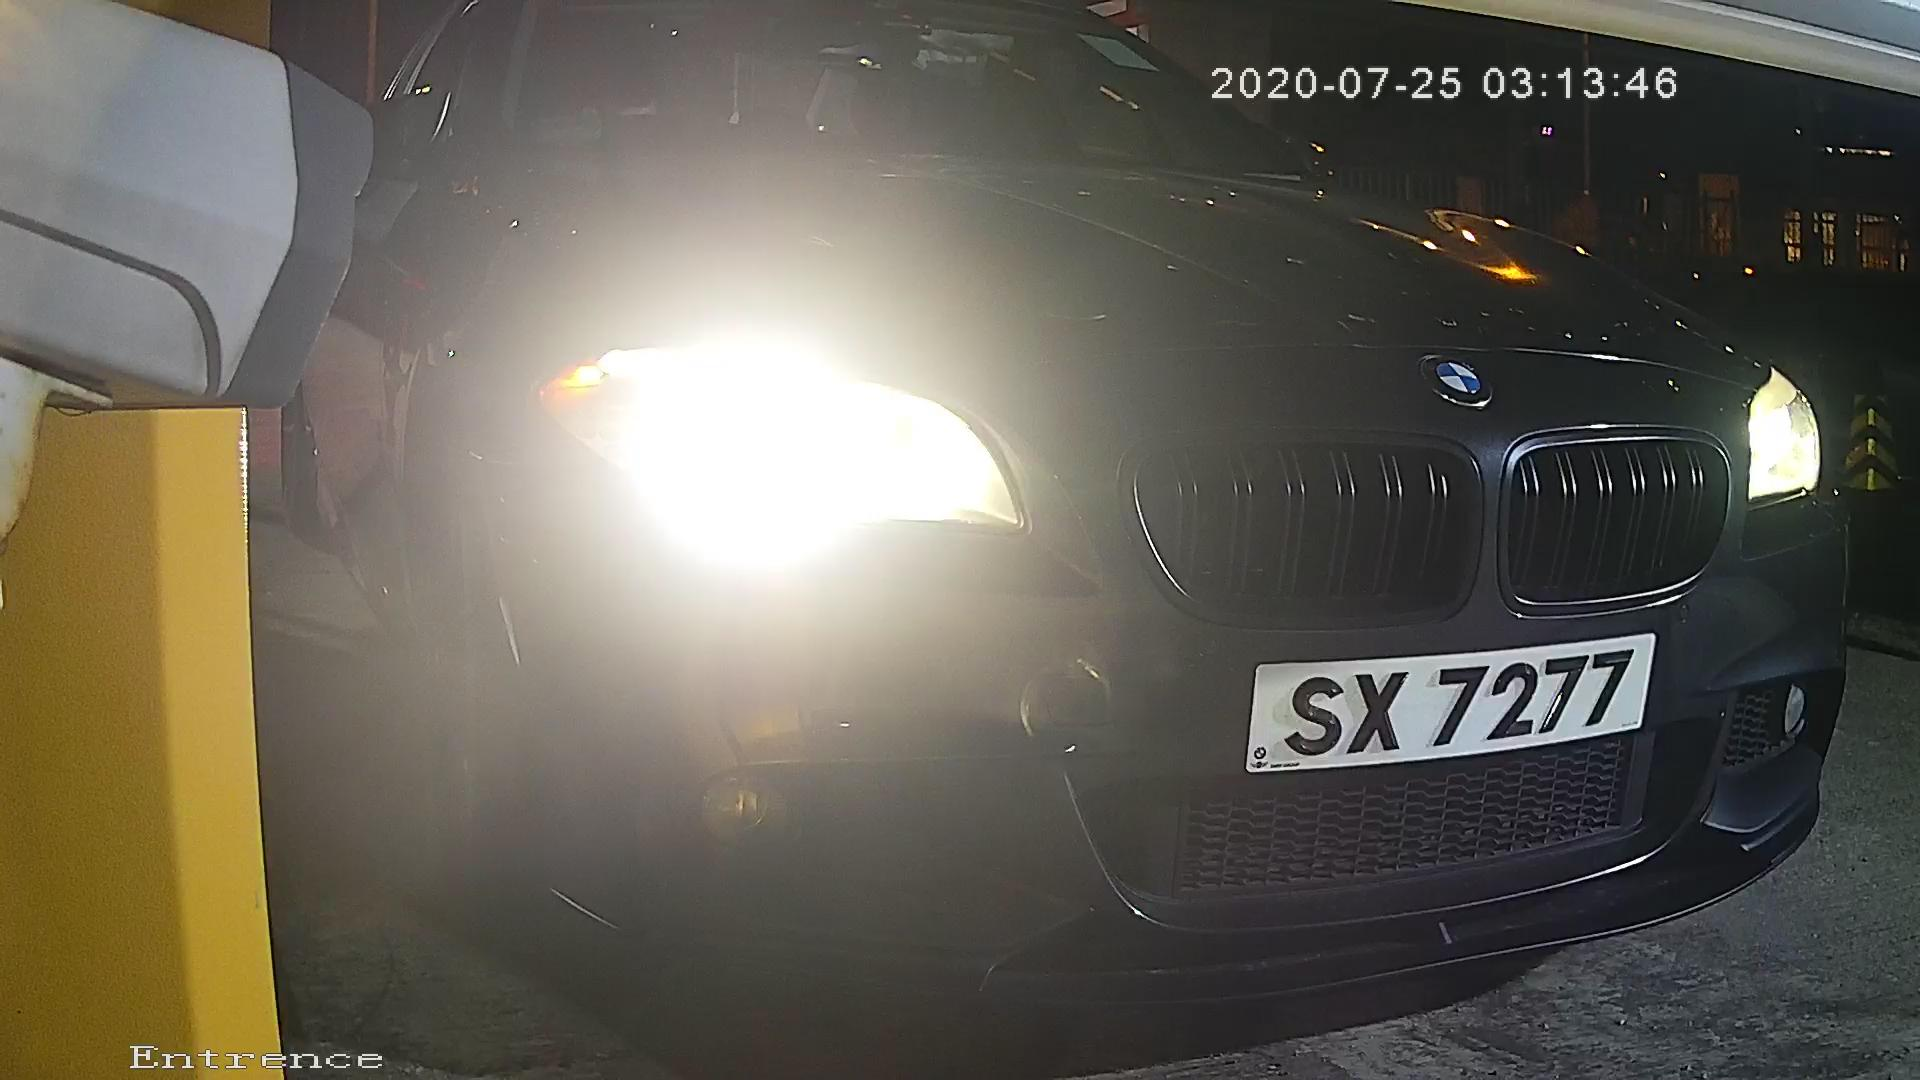Car: (86, 5, 1920, 1018)
License Plate: (1209, 622, 1681, 786)
